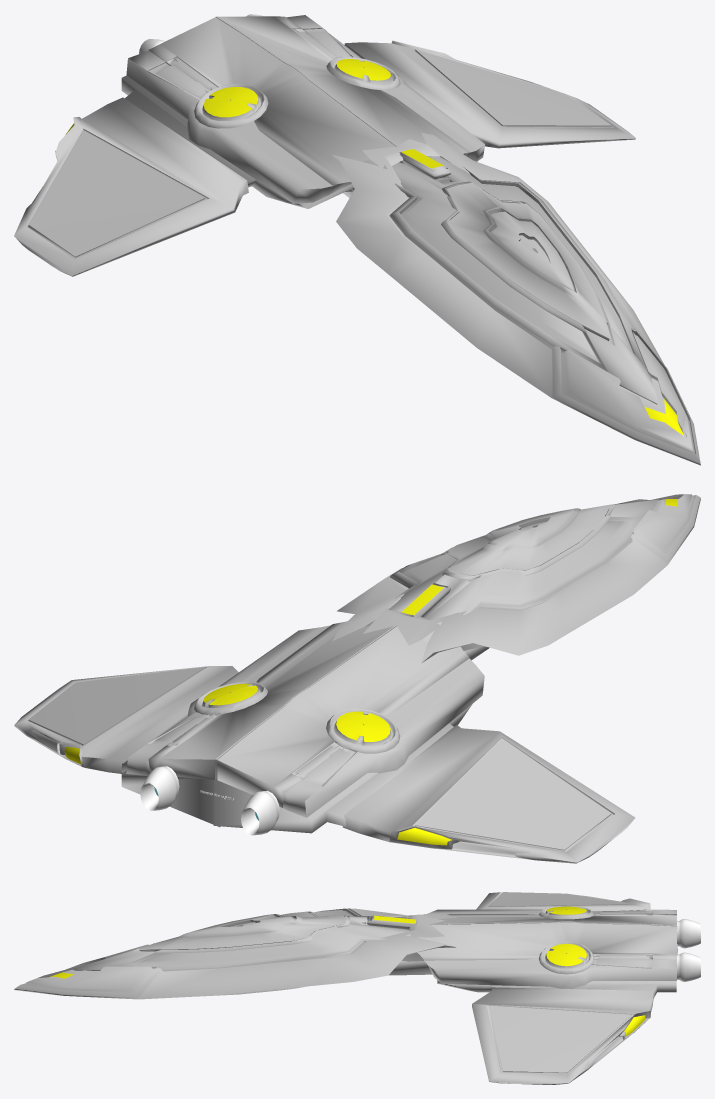
File: justigue league flying vehicle.obj
The picture shows the model from 3 angles, top to bottom: view 1: azimuth 30°, elevation 25°; view 2: azimuth 150°, elevation 25°; view 3: azimuth 270°, elevation 25°; orthographic projection. The views are drawn at different scales.
Parts seen in each view (by area): view 1: justice1, justice__2; view 2: justice1, justice__2, justice_3; view 3: justice1, justice__2, justice_3.
Boxes of the visible parts, x1=… form: justice1: x1=14, y1=15, x2=700, y2=465; justice__2: x1=65, y1=59, x2=683, y2=435; justice1: x1=14, y1=494, x2=700, y2=863; justice__2: x1=64, y1=499, x2=677, y2=845; justice_3: x1=140, y1=766, x2=279, y2=835; justice1: x1=14, y1=892, x2=677, y2=1084; justice__2: x1=49, y1=906, x2=645, y2=1036; justice_3: x1=676, y1=919, x2=700, y2=981.
Size of the model in its own units: 256 by 49.35 by 391.
